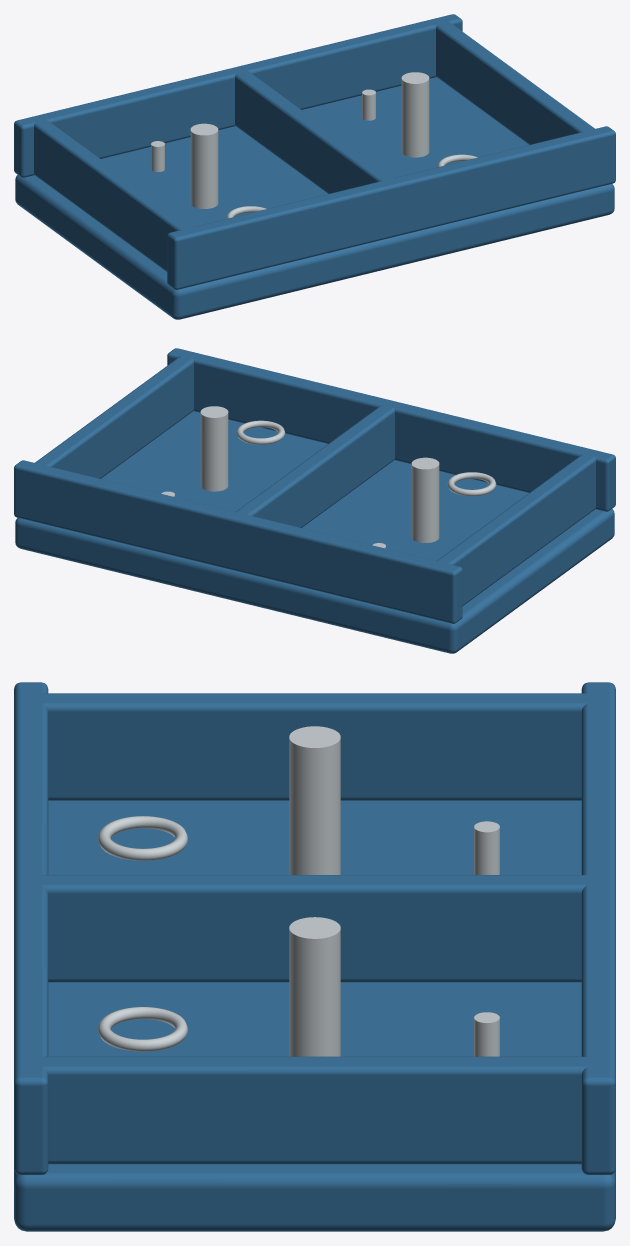
The model's file is fencing-club-and-tournament-piste-foil-tip-assembly-tr-e3502fbd__31237.glb.
3 renders of one model, top to bottom at view 1: azimuth 30°, elevation 25°; view 2: azimuth 150°, elevation 25°; view 3: azimuth 270°, elevation 25°, orthographic. The views are drawn at different scales.
Parts seen in each view (by area): view 1: foil-tip-assembly-tray; view 2: foil-tip-assembly-tray; view 3: foil-tip-assembly-tray.
Part boxes in pixels (left/top/right/bottom): foil-tip-assembly-tray: left=14, top=14, right=615, bottom=319; foil-tip-assembly-tray: left=14, top=348, right=615, bottom=653; foil-tip-assembly-tray: left=14, top=682, right=615, bottom=1231.
Size of the model in its own units: 0.22 by 0.051 by 0.14.
